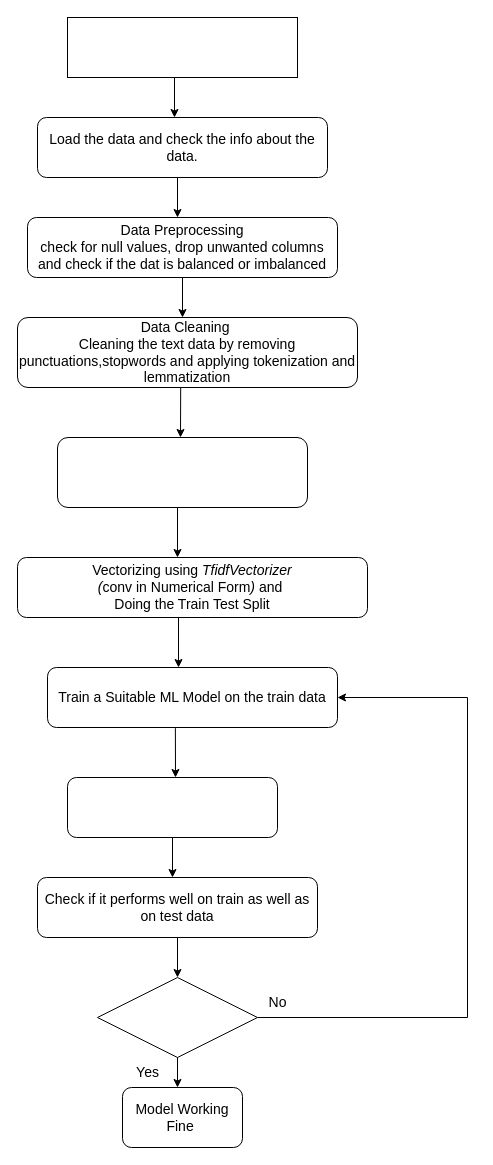
The diagram is 493 pixels wide and 1165 high, and some of its shapes have lost their labels. The centre of each missing label's shape, as x and y in pixels:
"If No Model Overfits/Under fit" belongs at point 177,1017.
"Import the Required Libraries" belongs at point 182,47.
"Modelling the Data X as Independent columns Y as Target column" belongs at point 182,472.
"Predict the result on test data" belongs at point 172,807.
